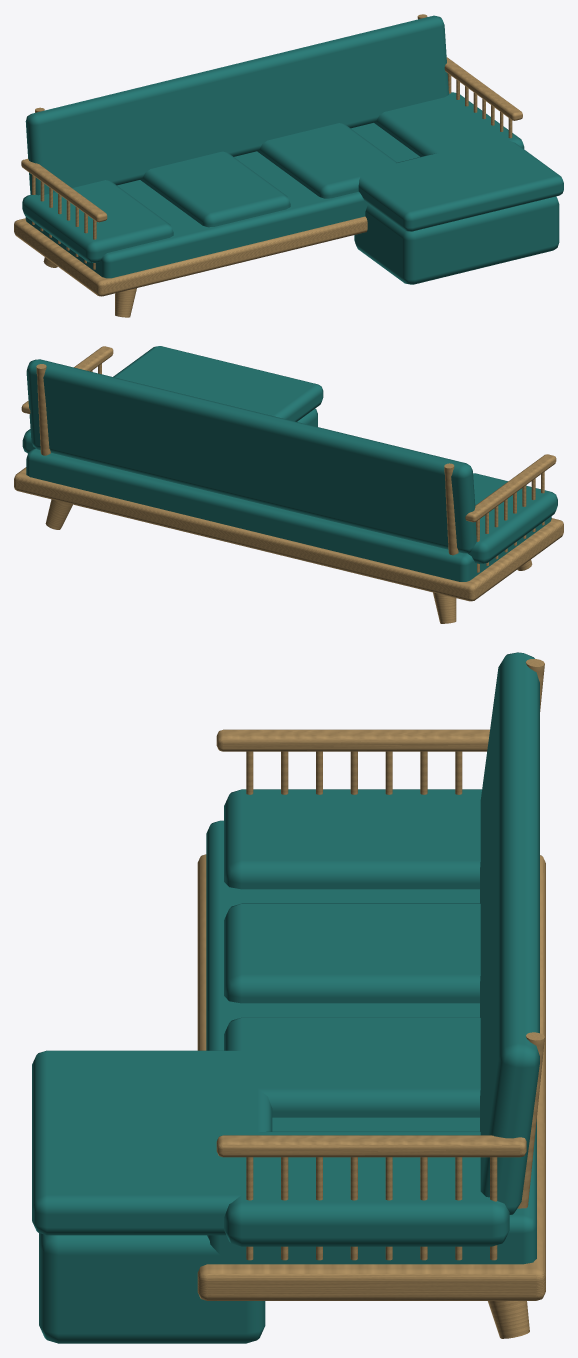
The model's file is sofa_veranda-1ebaefef4a9f.glb.
3 views of the same model, one above another, from view 1: azimuth 30°, elevation 25°; view 2: azimuth 150°, elevation 25°; view 3: azimuth 270°, elevation 25° (orthographic). The views are drawn at different scales.
Parts seen in each view (by area): view 1: surface_teal, surface_bamboo; view 2: surface_teal, surface_bamboo; view 3: surface_teal, surface_bamboo.
Part boxes in pixels (x1,y1,x2,y2): surface_teal: [22, 15, 563, 284]; surface_bamboo: [14, 14, 522, 317]; surface_teal: [22, 346, 557, 581]; surface_bamboo: [14, 346, 563, 623]; surface_teal: [32, 652, 539, 1343]; surface_bamboo: [197, 659, 545, 1338].
Size of the model in its own units: 2.53 by 0.8551 by 1.28.
2 materials, 1 textured.
